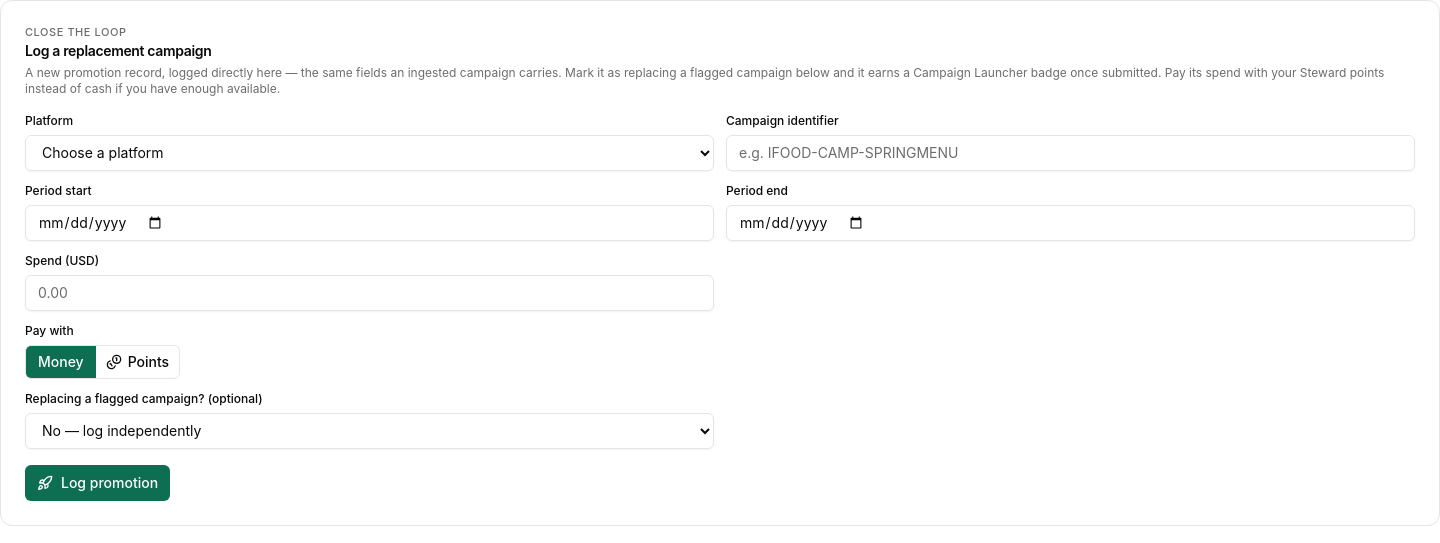
Scenario: LogReplacementForm › submits with NO replaces field when logged independently, and reports no badge earned
The width and height of the screenshot is (1440, 543).
Select "Just Eat Takeaway" in the dropdown labelled "Platform" at [370, 153], box [25, 135, 714, 171]
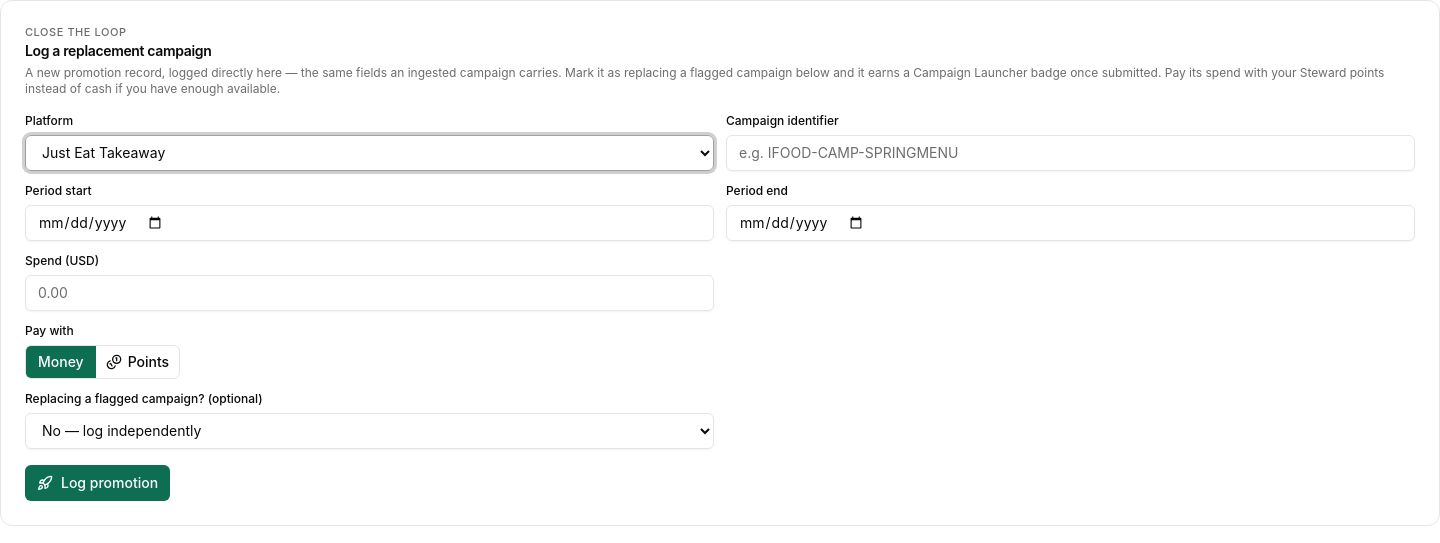
Type "JET-CAMP-STANDALONE" into the field labelled "Campaign identifier" at [1070, 153], box [726, 135, 1415, 171]
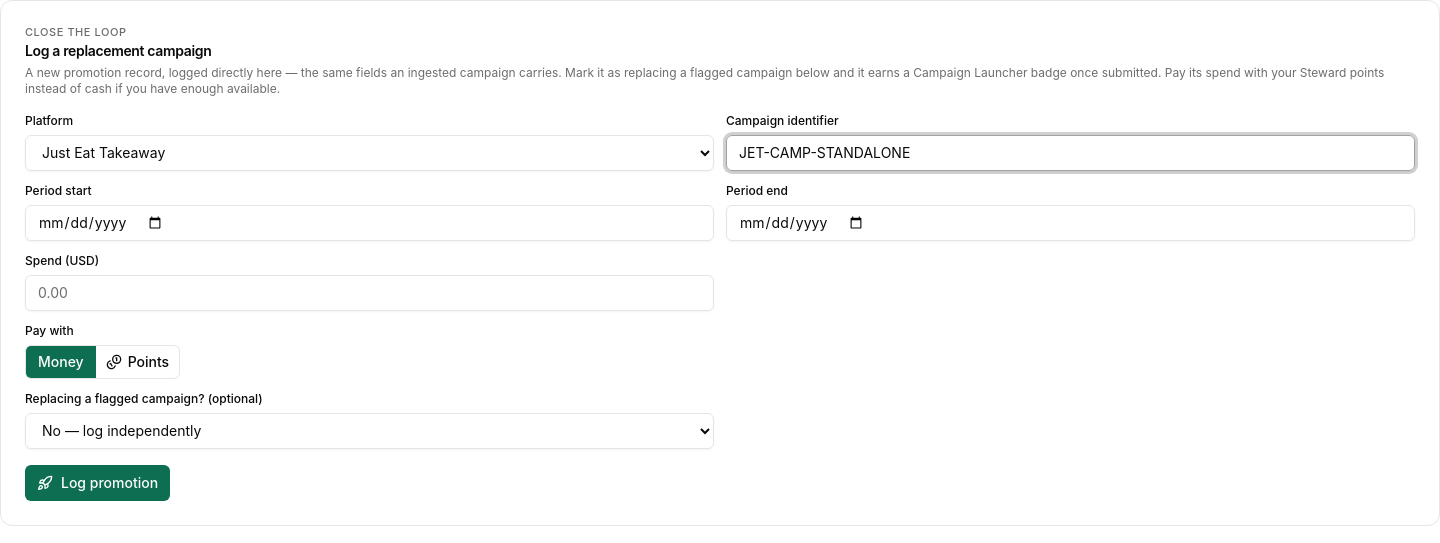
Type "2026-08-15" into the date field labelled "Period start" at [370, 223], box [25, 205, 714, 241]
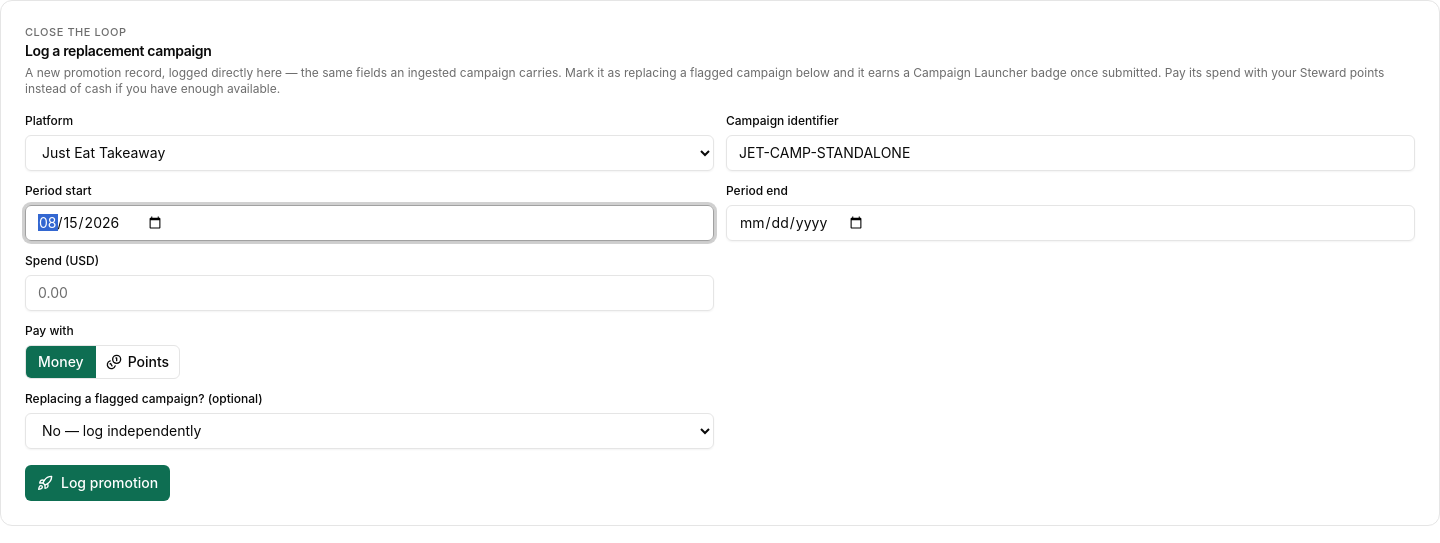
Type "2026-08-21" into the date field labelled "Period end" at [1070, 223], box [726, 205, 1415, 241]
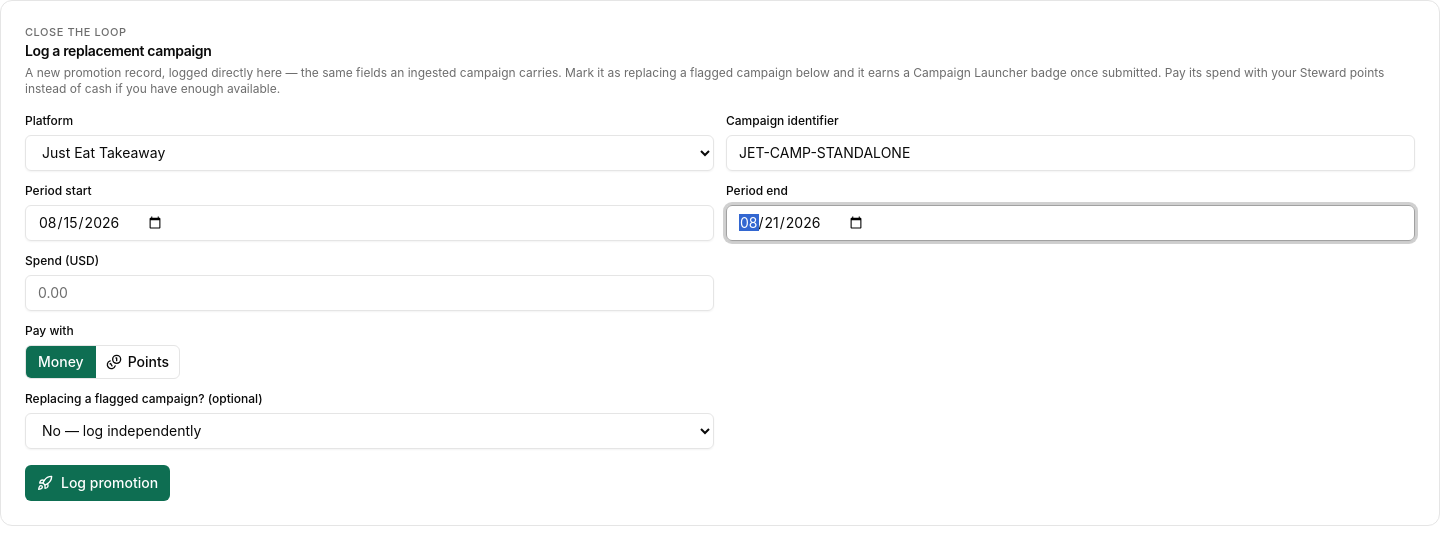
Type "75" into the number field labelled "Spend (USD)" at [370, 293], box [25, 275, 714, 311]
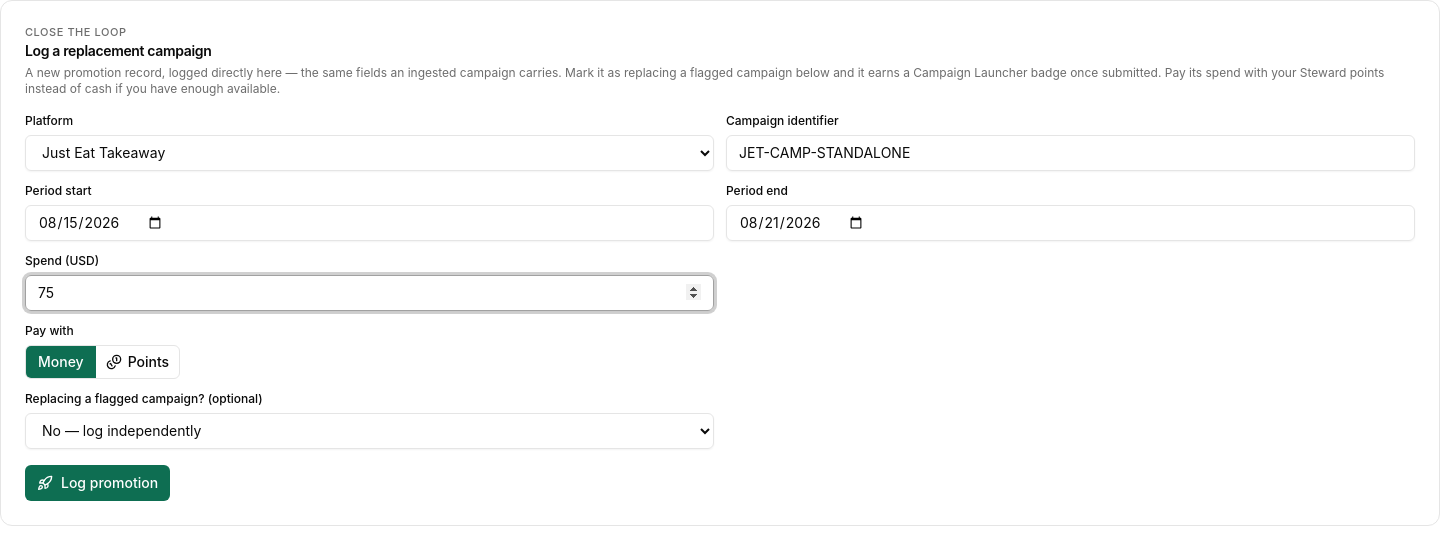
Click the button "Log promotion" at [98, 483], box [25, 465, 170, 501]
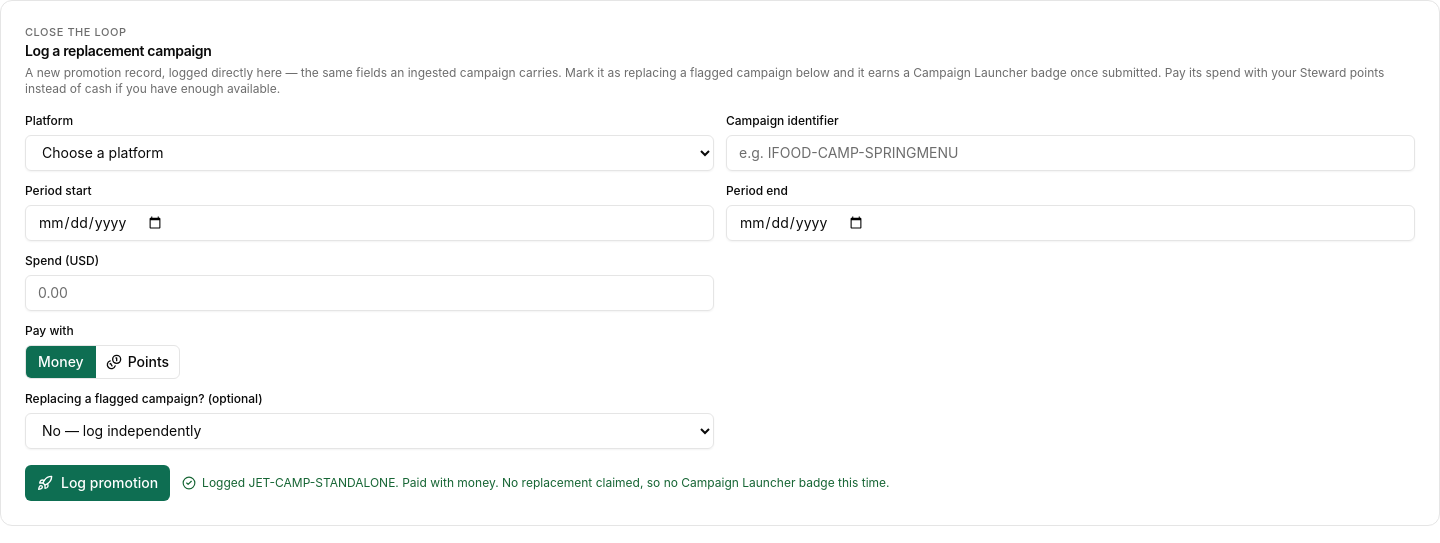
Check: the text "no campaign launcher badge this time" is shown, box [502, 475, 890, 490]
